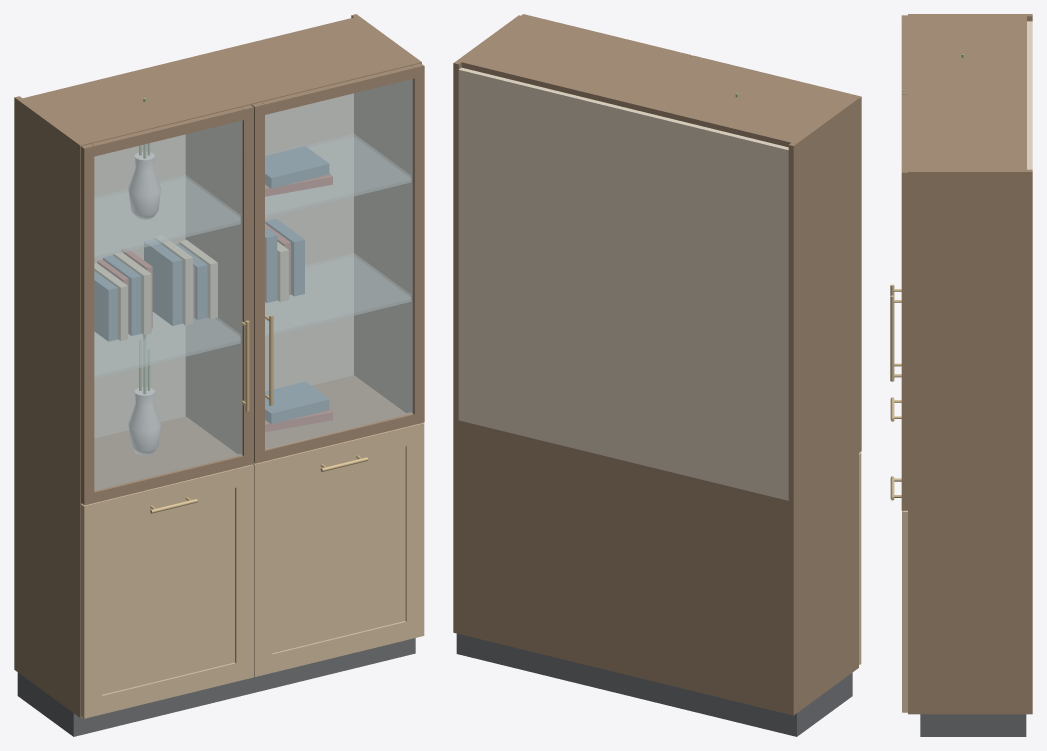
The picture shows the model from 3 angles, left to right: view 1: azimuth 30°, elevation 25°; view 2: azimuth 150°, elevation 25°; view 3: azimuth 270°, elevation 25°; orthographic projection. The views are drawn at different scales.
Visible parts, largest first — view 1: Tủ trưng bày Rộng=1200; Sâu=420; view 2: Tủ trưng bày Rộng=1200; Sâu=420; view 3: Tủ trưng bày Rộng=1200; Sâu=420.
Part boxes in pixels (x1,y1,x2,y2): Tủ trưng bày Rộng=1200; Sâu=420: [14, 14, 424, 736]; Tủ trưng bày Rộng=1200; Sâu=420: [453, 14, 861, 736]; Tủ trưng bày Rộng=1200; Sâu=420: [890, 14, 1032, 736].
Bounding box in the file's own units: 1.2 × 2.01 × 0.456.
